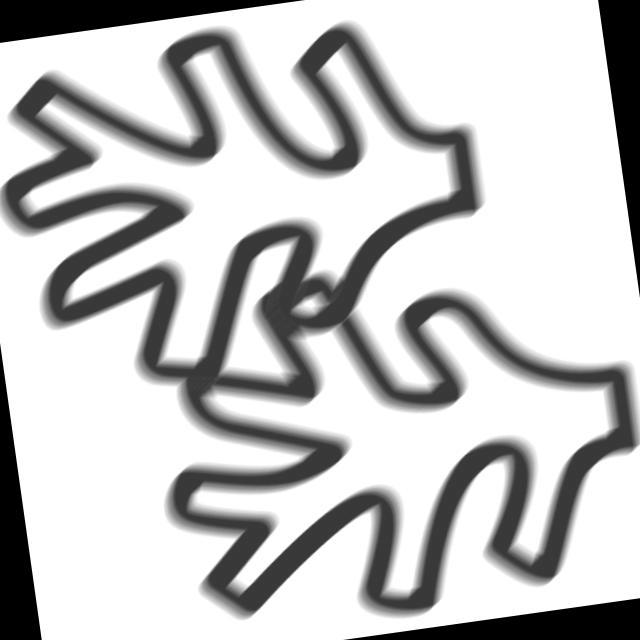coral: (1, 1, 523, 424), (130, 224, 640, 640)
